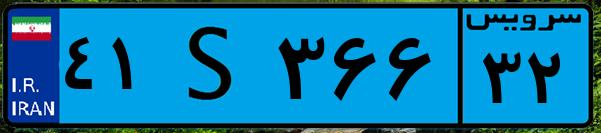1: (110, 28, 158, 98)
2: (525, 38, 570, 115)
3: (270, 28, 330, 110), (475, 38, 525, 113)
4: (57, 26, 110, 100)
6: (385, 28, 445, 110), (330, 28, 385, 110)
S: (158, 12, 270, 120)
